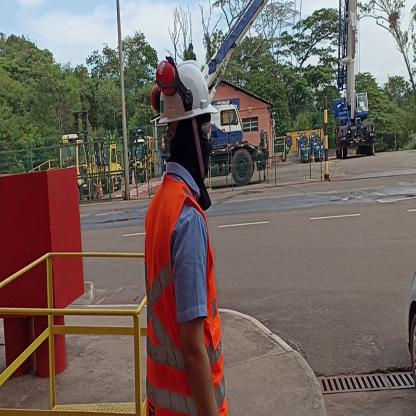Balaclava: (165, 115, 213, 176)
Capacete: (155, 56, 217, 117)
colete: (148, 183, 231, 416)
